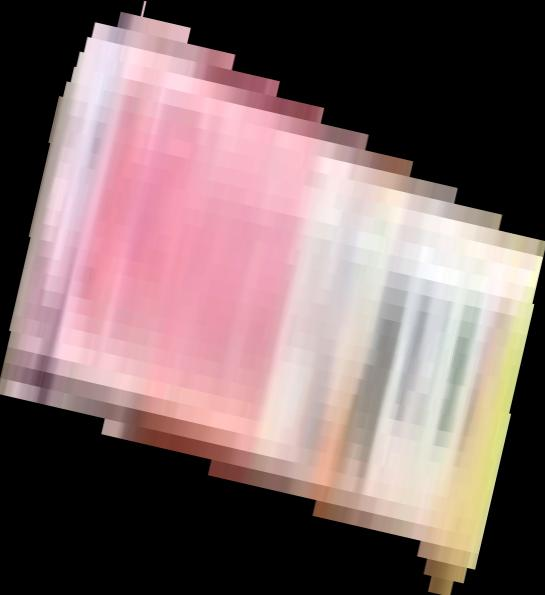flat: (1, 1, 545, 595)
